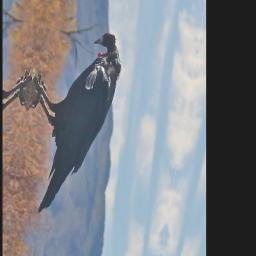Crow: (11, 15, 128, 230)
